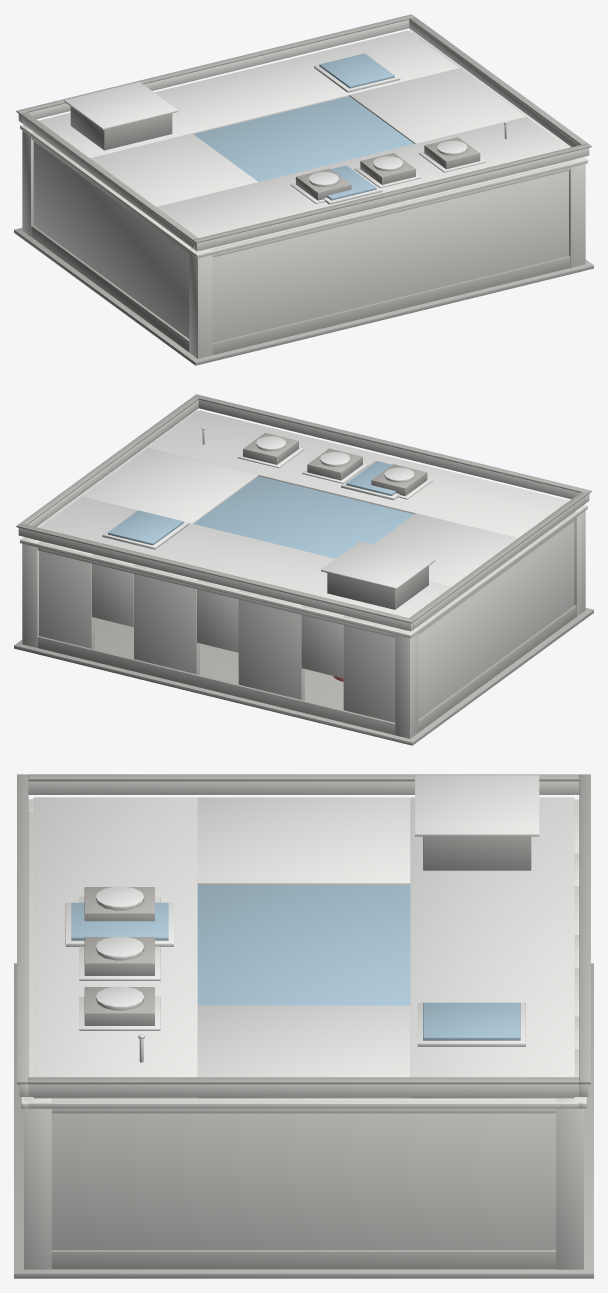
Rendered from th10_einkaufszentrum.glb.
3 views of the same model, one above another, from view 1: azimuth 30°, elevation 25°; view 2: azimuth 150°, elevation 25°; view 3: azimuth 270°, elevation 25° (orthographic). The views are drawn at different scales.
Parts seen in each view (by area): view 1: Cube.009, Cube.010, Cube.017, Cube.016, Cube.020, Cube.019, Cube.018, Cube.206, Cube, Cube.218, Cube.227, Cube.219 (+20 smaller); view 2: Cube.016, Cube.010, Cube.017, Cube.020, Cube, Cube.019, Cube.003, Cube.004, Cube.018, Cube.005, Cube.002, Cube.207 (+26 smaller); view 3: Cube.011, Cube.016, Cube.017, Cube.020, Cube.018, Cube.019, Cube.209, Cube, Cube.227, Cube.221, Cube.220, Cube.217 (+21 smaller).
Boxes of the visible parts, x1,y1,x2,y2 form: Cube.009: (201, 159, 574, 342); Cube.010: (33, 141, 199, 338); Cube.017: (38, 30, 458, 157); Cube.016: (157, 117, 576, 250); Cube.020: (194, 96, 413, 181); Cube.019: (349, 68, 525, 143); Cube.018: (90, 133, 257, 206); Cube.206: (212, 256, 570, 354); Cube: (14, 228, 593, 365); Cube.218: (194, 148, 589, 251); Cube.227: (64, 82, 178, 130); Cube.219: (18, 20, 409, 122); Cube.016: (149, 410, 569, 537); Cube.010: (408, 521, 574, 718); Cube.017: (31, 497, 450, 630); Cube.020: (194, 476, 413, 558); Cube: (14, 608, 593, 745); Cube.019: (82, 448, 258, 523); Cube.003: (238, 590, 304, 700); Cube.004: (134, 564, 199, 674); Cube.018: (373, 513, 517, 586); Cube.005: (39, 541, 94, 649); Cube.002: (343, 615, 406, 722); Cube.207: (37, 636, 395, 734); Cube.011: (42, 1098, 571, 1249); Cube.016: (33, 797, 197, 1098); Cube.017: (410, 797, 574, 1098); Cube.020: (197, 885, 410, 1005); Cube.018: (197, 797, 410, 885); Cube.019: (197, 1005, 410, 1098); Cube.209: (51, 1250, 556, 1269); Cube: (14, 963, 593, 1278); Cube.227: (415, 775, 539, 836); Cube.221: (28, 1084, 579, 1096); Cube.220: (28, 781, 579, 794); Cube.217: (28, 1100, 579, 1108).
Size of the model in its own units: 38 by 12.5 by 30.
